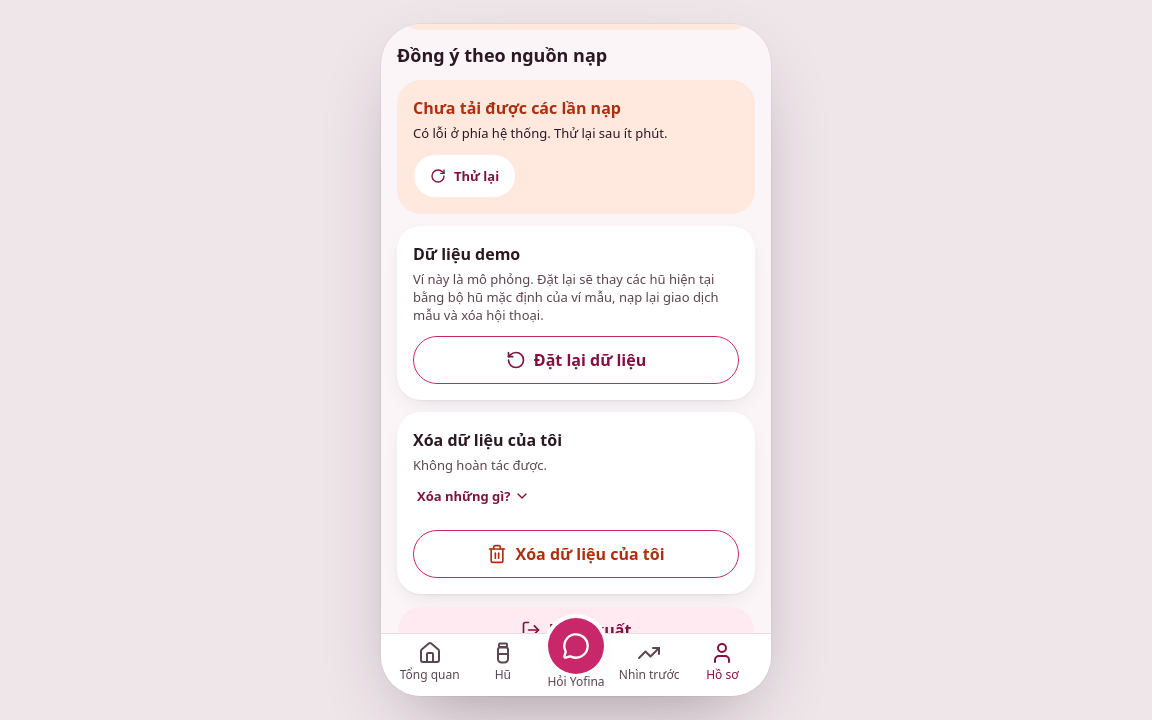
Scenario: Hồ sơ › Đặt lại dữ liệu: hộp xác nhận -> POST /demo/reset -> tải lại số dư; Hủy thì không gọi
(page scrolled)
What coordinates should you click on to do the following:
click the button "Đặt lại dữ liệu"
I would click on:
 (576, 360)
Its box is 413,336 -> 739,384.
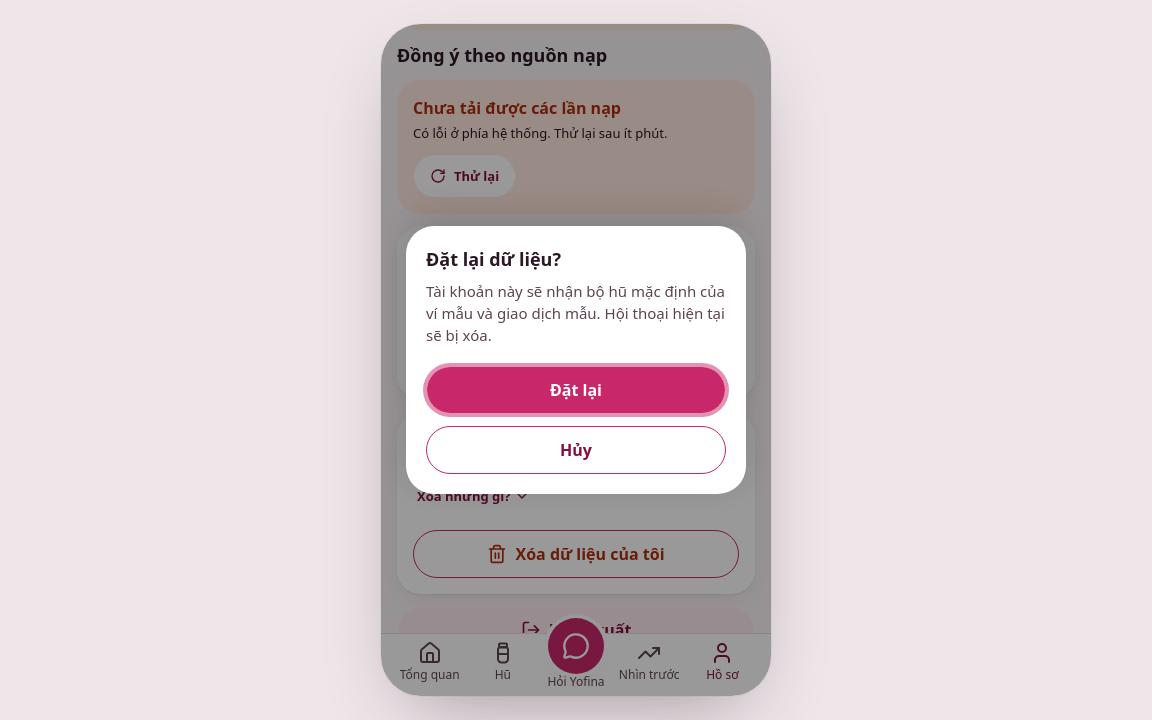
What coordinates should you click on to do the following:
click the button "Hủy"
I would click on:
 (576, 450)
Its box is 426,426 -> 726,474.
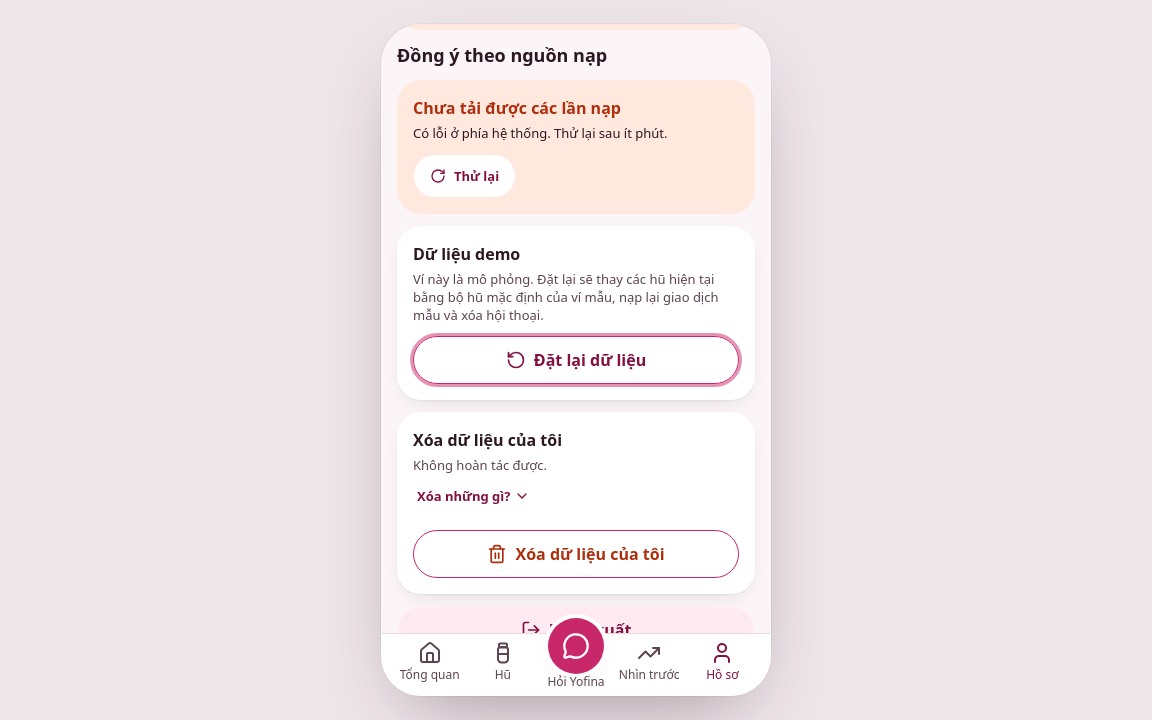
What coordinates should you click on to do the following:
click the button "Đặt lại dữ liệu"
I would click on:
 (576, 360)
Its box is 413,336 -> 739,384.
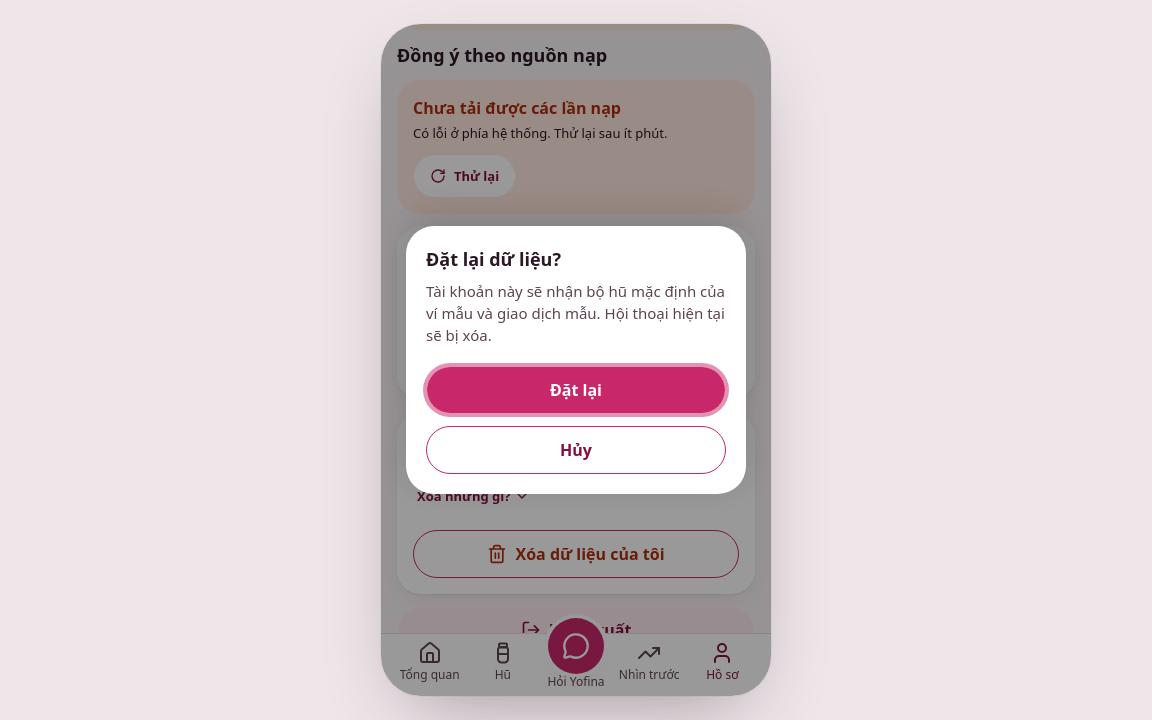
What coordinates should you click on to do the following:
click the button "Đặt lại"
I would click on:
 (576, 390)
Its box is 426,366 -> 726,414.
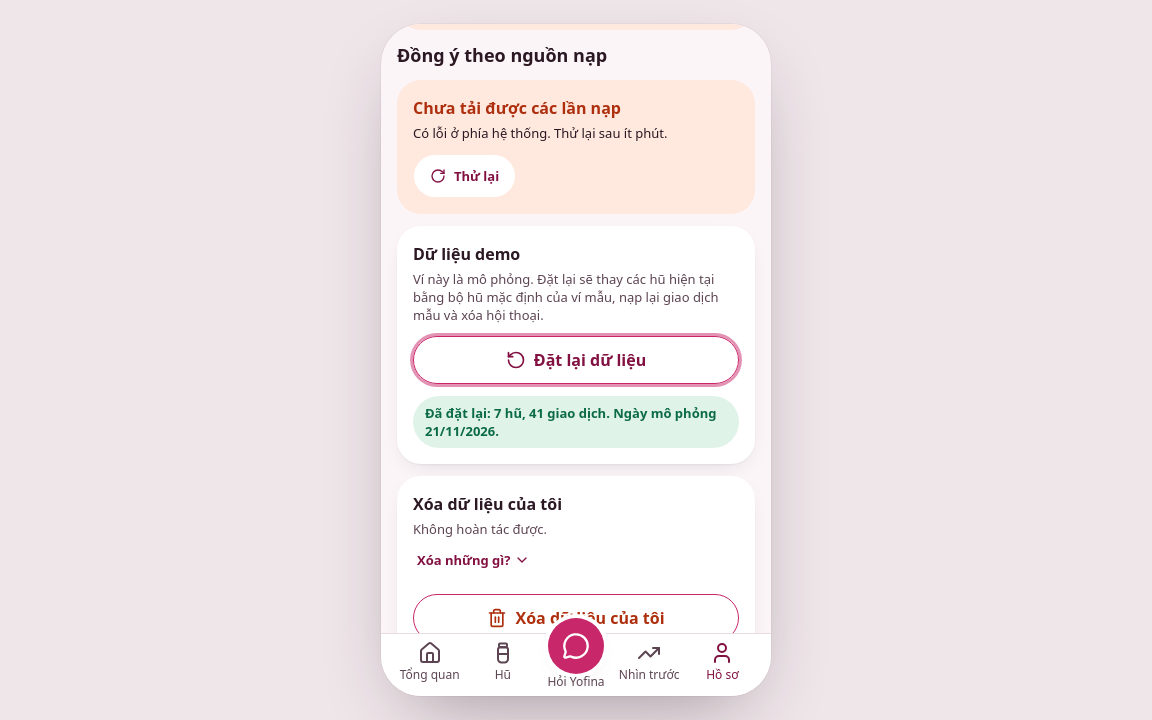
Check: the text "Đã đặt lại: 7 hũ, 41 giao dịch. Ngày mô phỏng 21/11/2026." is shown, box 413,396 -> 739,448
